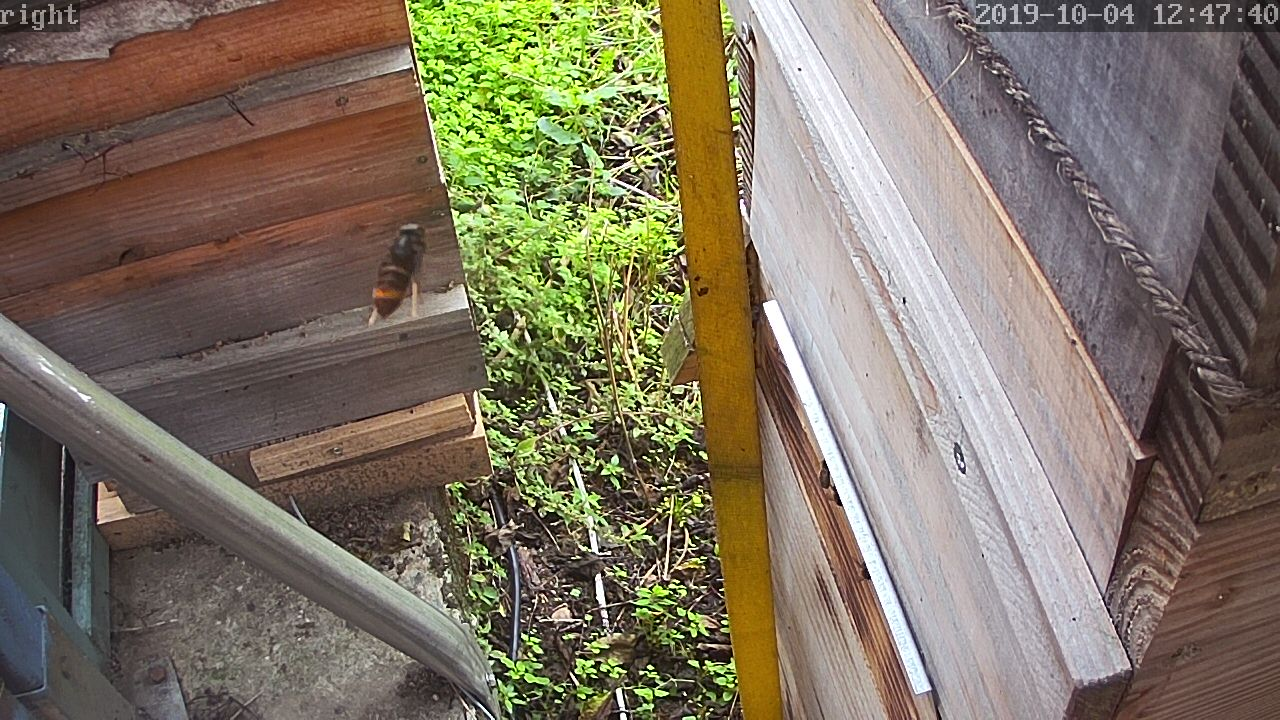bee: (817, 457, 836, 493)
hornet: (370, 221, 431, 322)
